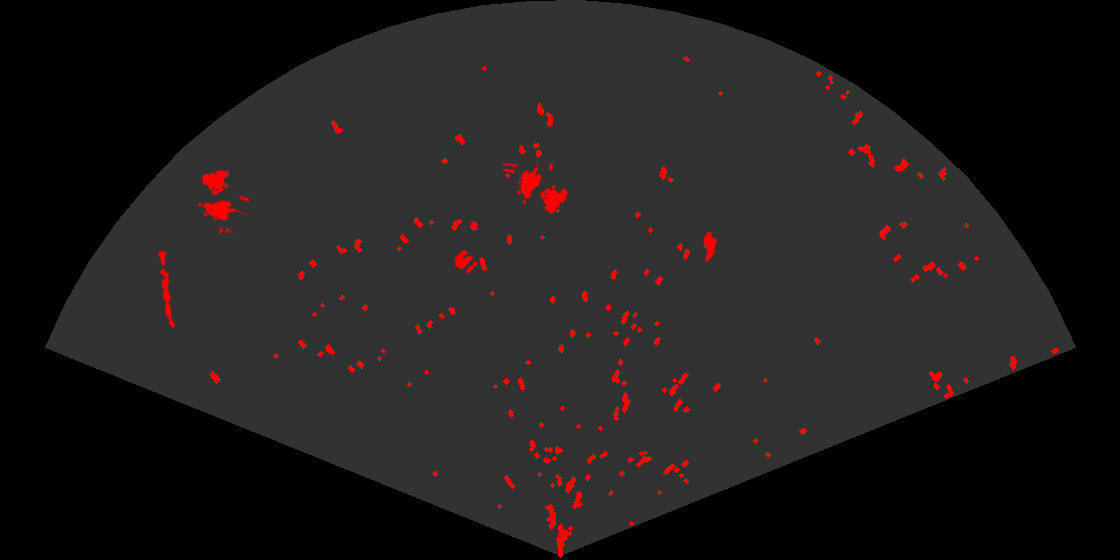AUV: (701, 230, 720, 264)
ball: (453, 248, 479, 275)
cage: (503, 163, 570, 215), (196, 168, 249, 233)
chain: (156, 248, 176, 330)
